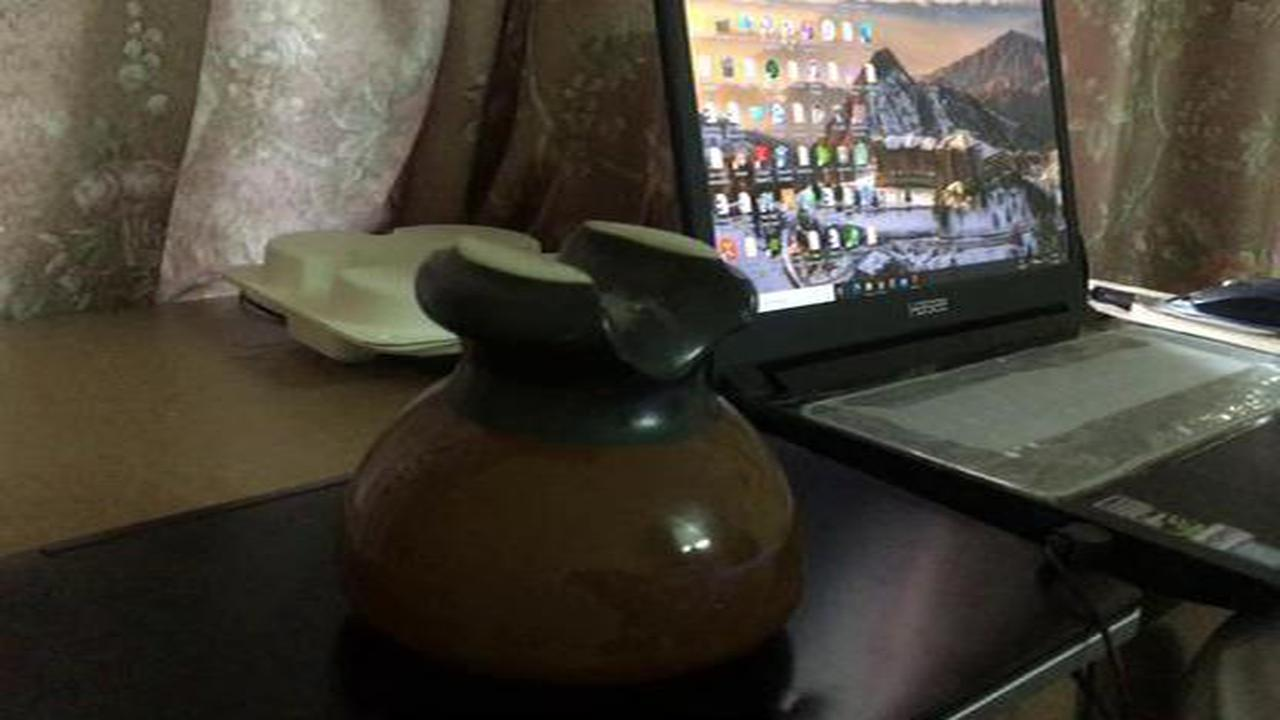insulator_pin: (321, 209, 834, 689)
